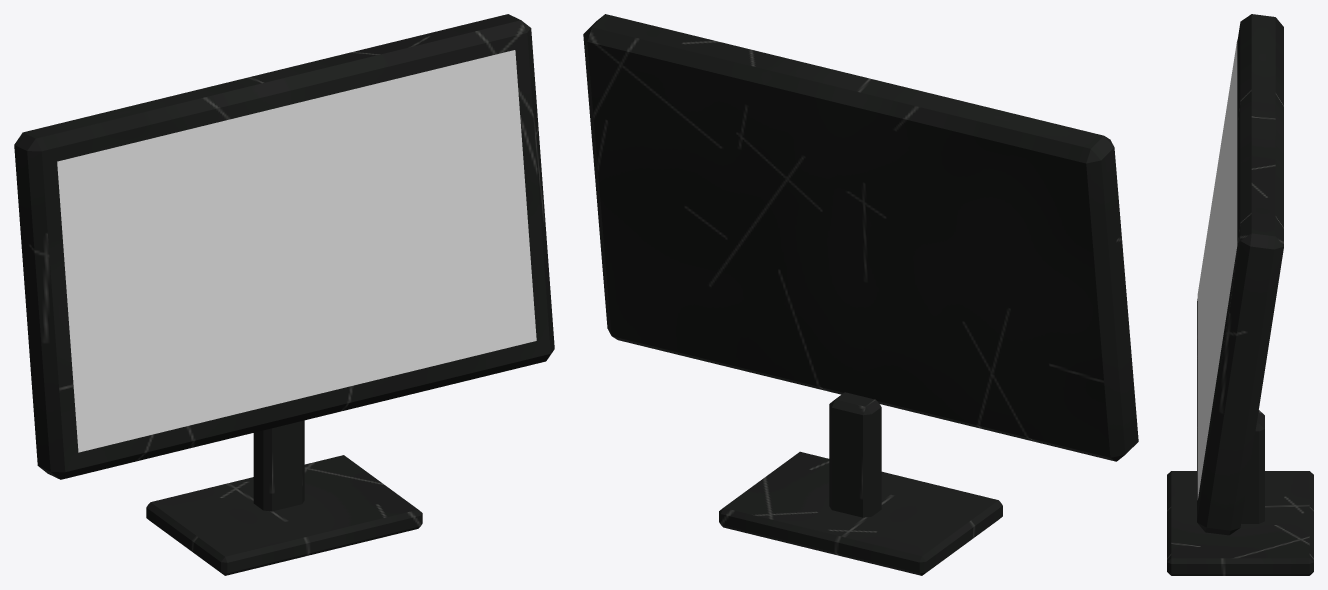
Rendered from S7U_Monitor.fbx.
3 views of the same model, side by side, from view 1: azimuth 30°, elevation 25°; view 2: azimuth 150°, elevation 25°; view 3: azimuth 270°, elevation 25° (orthographic). The views are drawn at different scales.
Parts seen in each view (by area): view 1: S7U_Monitor; view 2: S7U_Monitor; view 3: S7U_Monitor.
Boxes of the visible parts, <box> form: S7U_Monitor: <box>14,14,554,575</box>; S7U_Monitor: <box>583,14,1138,575</box>; S7U_Monitor: <box>1167,14,1313,575</box>.
Bounding box in the file's own units: 0.55 × 0.4601 × 0.15.
